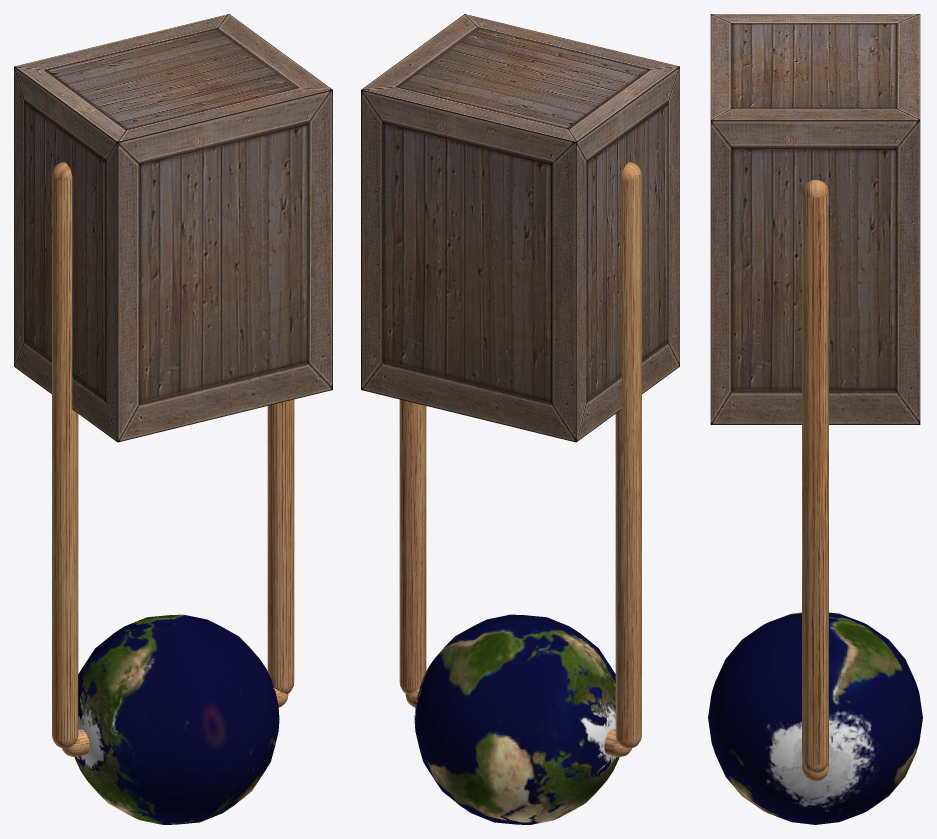
The model's file is unicycle.fbx.
3 views of the same model, side by side, from view 1: azimuth 30°, elevation 25°; view 2: azimuth 150°, elevation 25°; view 3: azimuth 270°, elevation 25° (orthographic).
Parts seen in each view (by area): view 1: Box001, Sphere002, convexhull; view 2: Box001, Sphere002, convexhull; view 3: Box001, Sphere002, convexhull.
Boxes of the visible parts, left/top/right/bottom form: Box001: left=14, top=14, right=332, bottom=442; Sphere002: left=74, top=614, right=279, bottom=824; convexhull: left=52, top=162, right=294, bottom=756; Box001: left=361, top=14, right=679, bottom=442; Sphere002: left=414, top=614, right=619, bottom=824; convexhull: left=399, top=162, right=641, bottom=756; Box001: left=710, top=14, right=920, bottom=424; Sphere002: left=708, top=612, right=922, bottom=824; convexhull: left=802, top=180, right=828, bottom=781.
Bounding box in the file's own units: 78.01 × 60 × 230.
